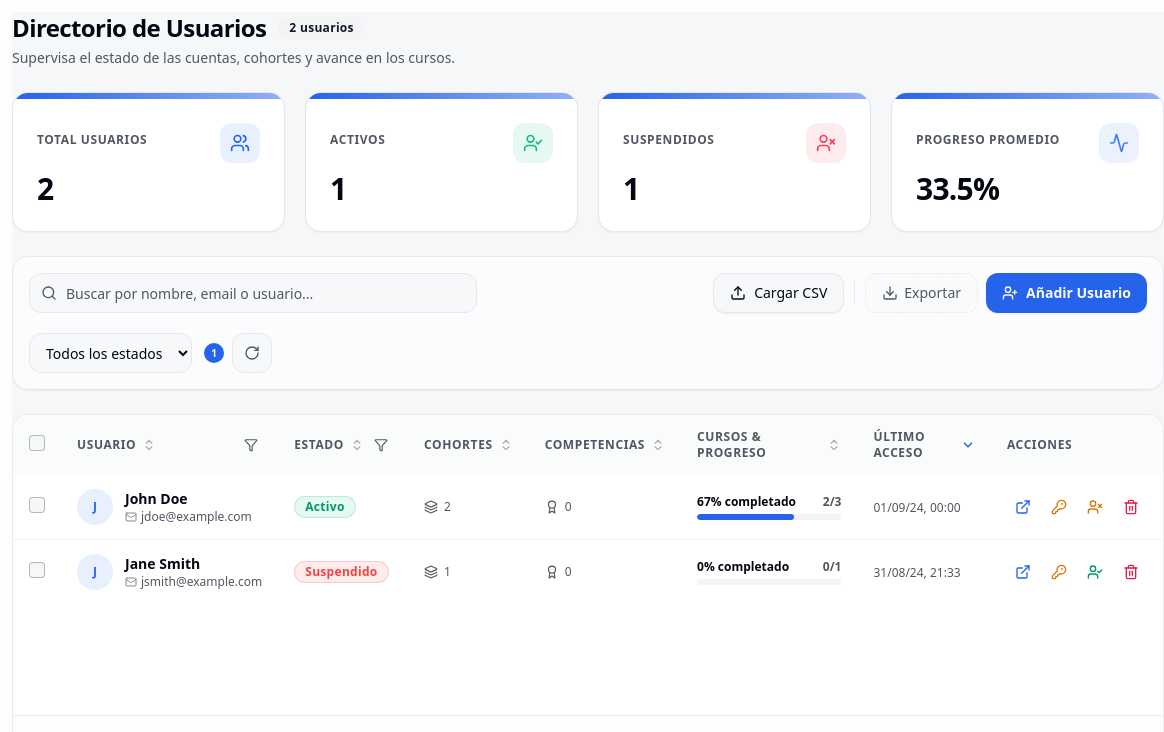
Scenario: UsersView behavior tests › shows error toast when userAction rejects
The width and height of the screenshot is (1164, 732).
Expected: the link "John Doe" is shown, [125,489,188,509]
Click the button titled "Suspender usuario": (1095, 507) [1079,491,1111,523]
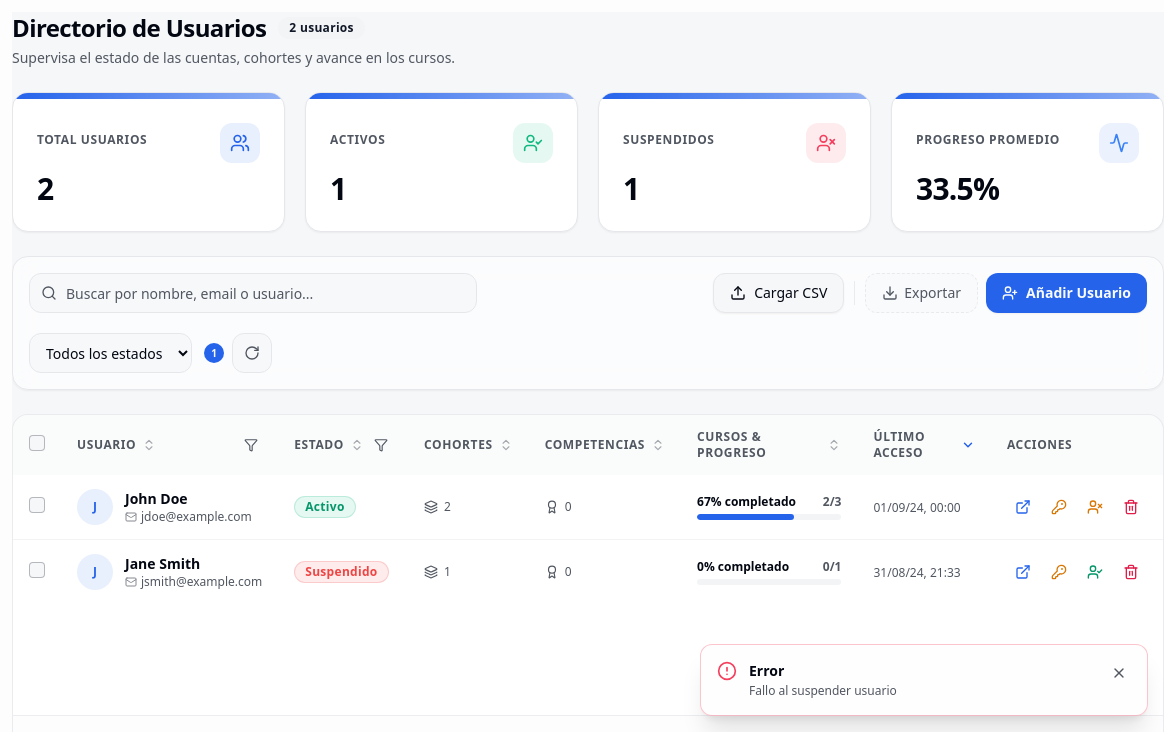
Expected: the text "Fallo al suspender usuario" is shown, [749,682,897,699]
